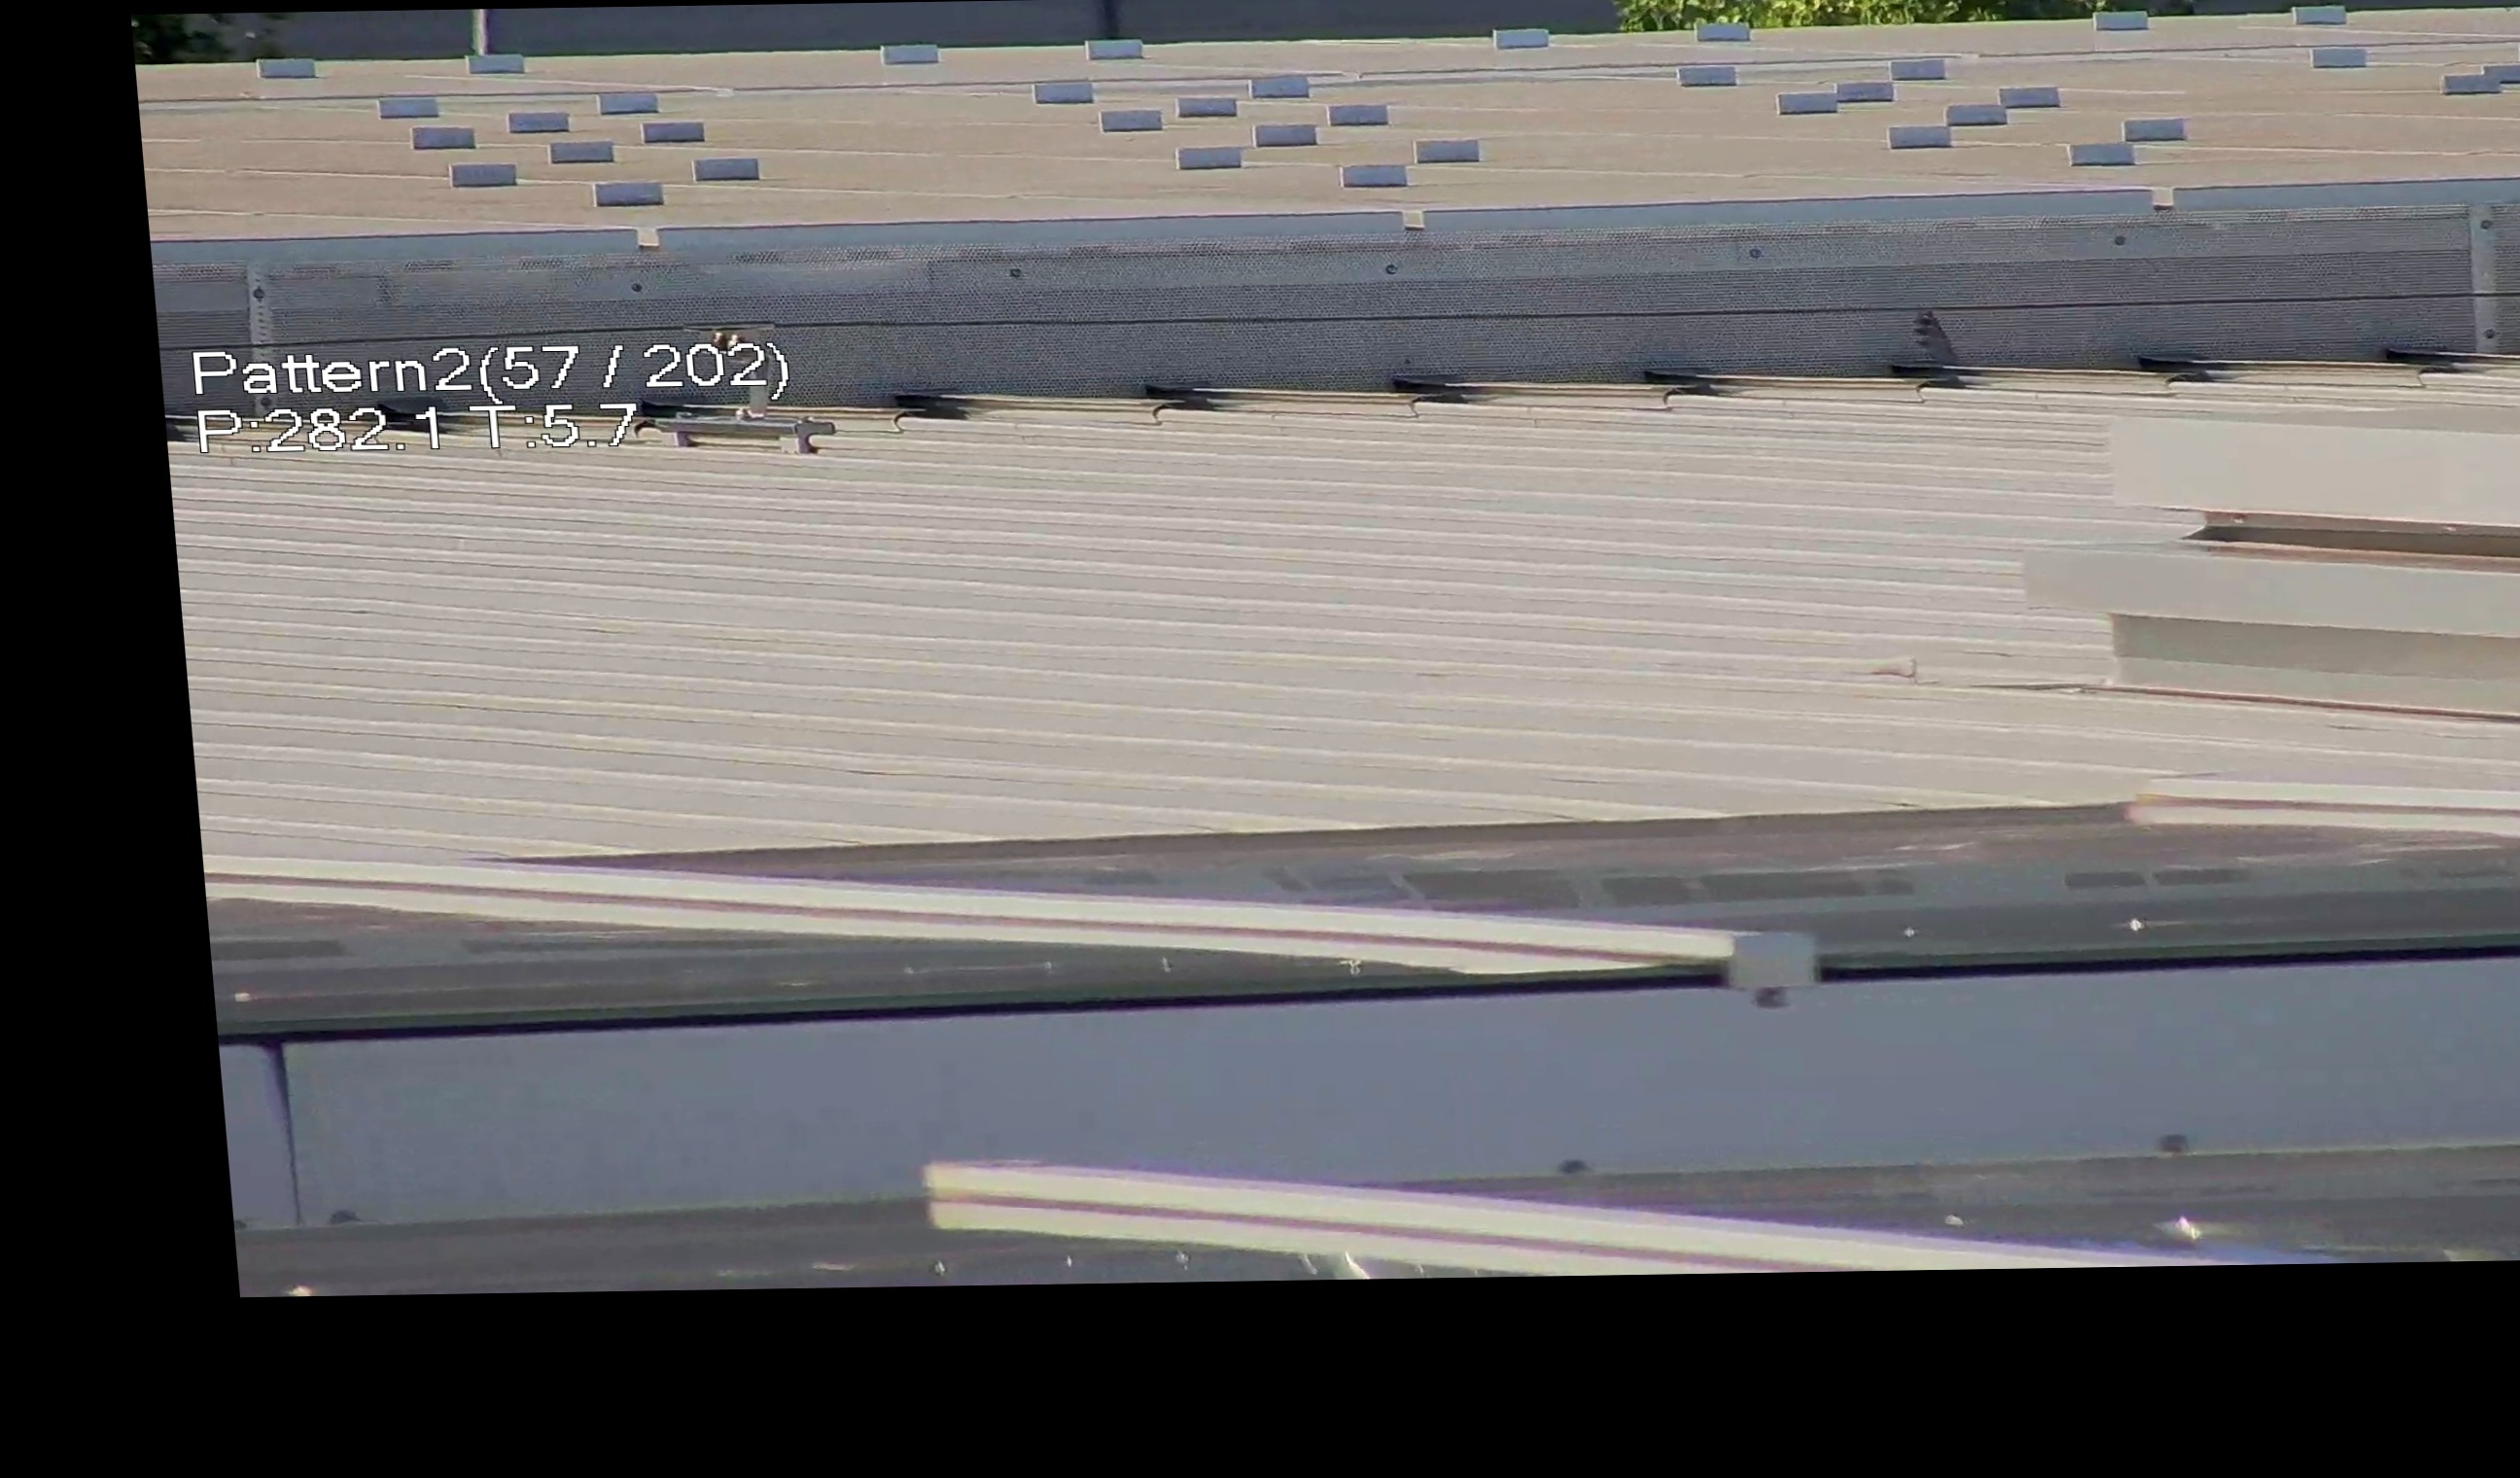Other: (1889, 282, 1998, 391)
